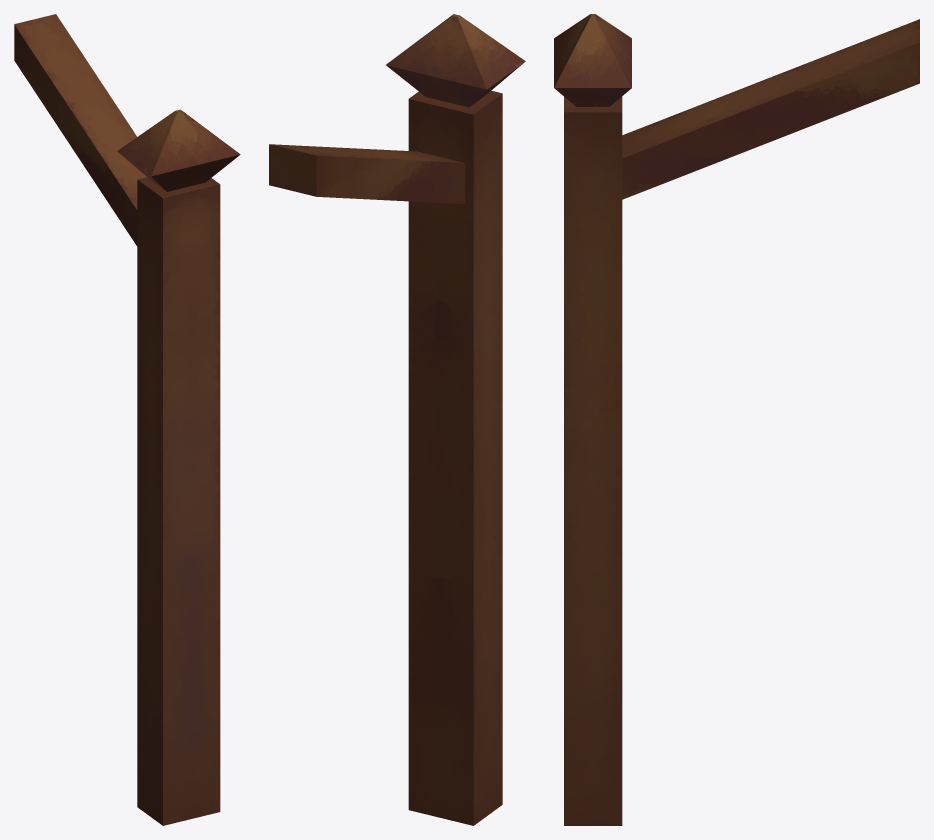
File: railing.fbx
The picture shows the model from 3 angles, left to right: view 1: azimuth 30°, elevation 25°; view 2: azimuth 150°, elevation 25°; view 3: azimuth 270°, elevation 25°; orthographic projection. The views are drawn at different scales.
Parts seen in each view (by area): view 1: Pagar.001; view 2: Pagar.001; view 3: Pagar.001.
Boxes of the visible parts, x1=… form: Pagar.001: x1=14, y1=14, x2=240, y2=825; Pagar.001: x1=269, y1=14, x2=525, y2=825; Pagar.001: x1=554, y1=14, x2=919, y2=825.
Size of the model in its own units: 46.93 by 350 by 146.
Materials: 1 (1 with a texture image).
